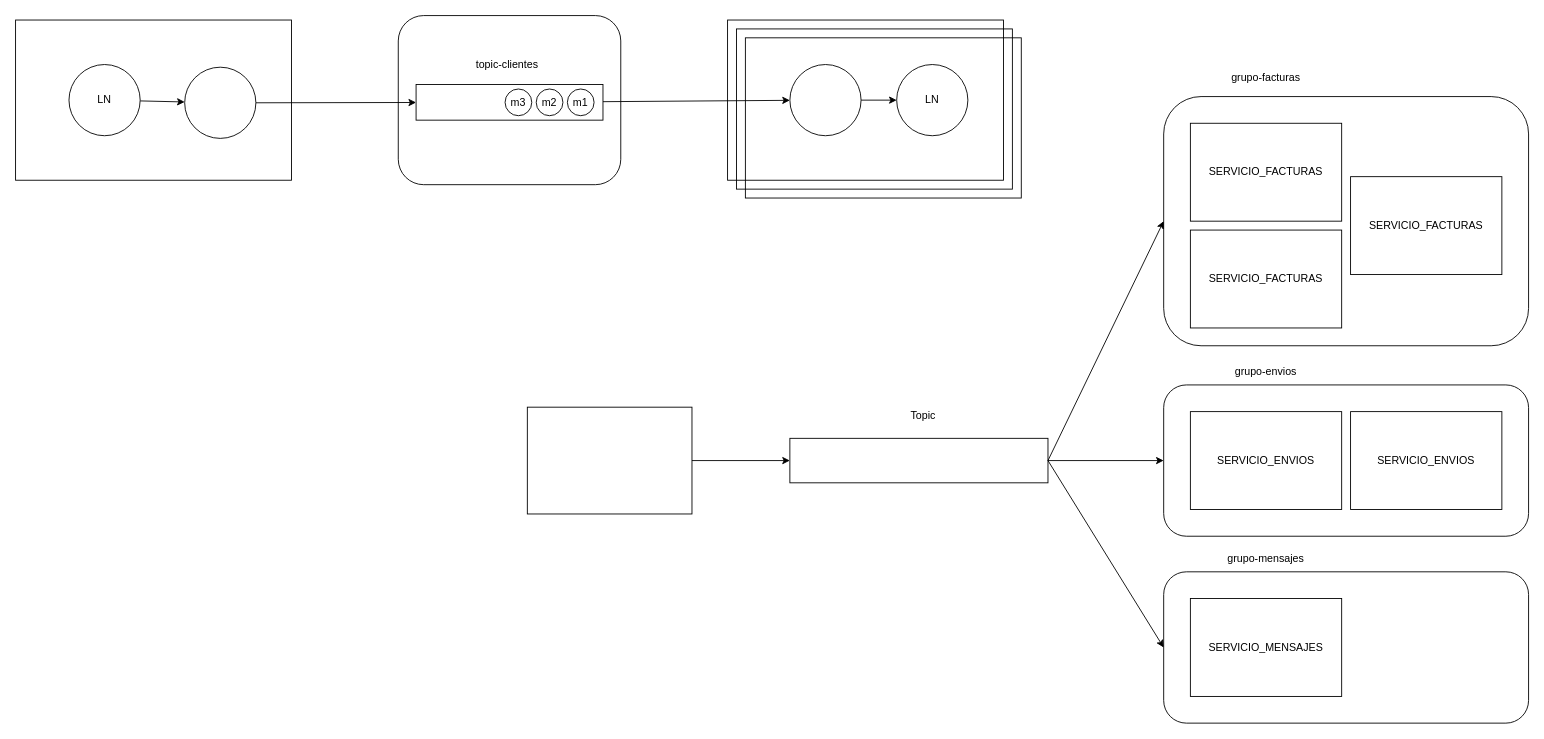
The diagram is 1544 pixels wide and 739 high, and some of its shapes have lost their labels. The shapes that lost their labels are listed below. From the top down, each one's box as (x1, y1, x2, y2) in pixels, then its label:
(184, 66, 256, 138): Productor (Stream Bridge)
(789, 64, 861, 136): Consumer
(526, 406, 692, 514): SERVICIO PEDIDOS
